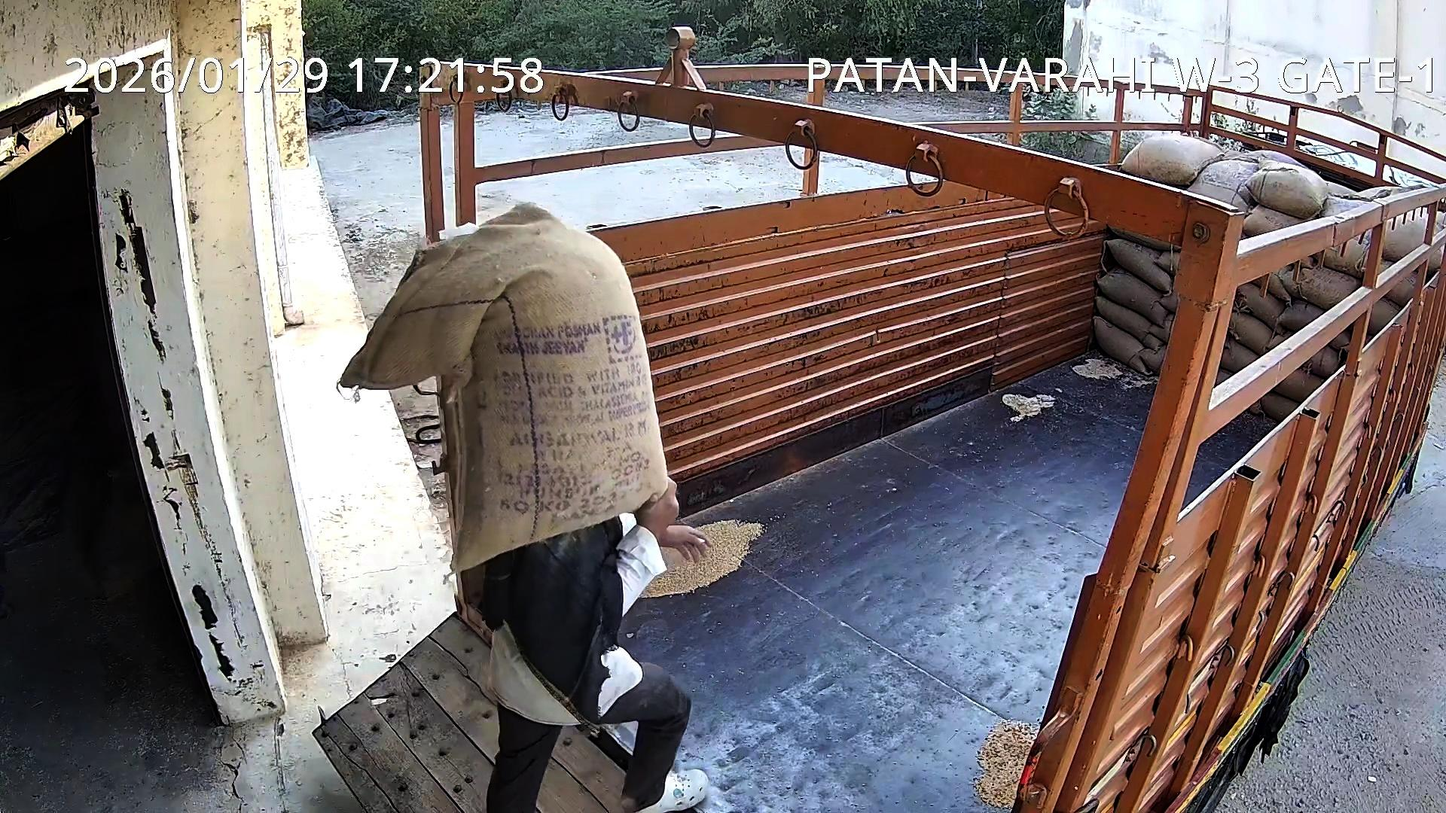Sack: (339, 204, 668, 572)
